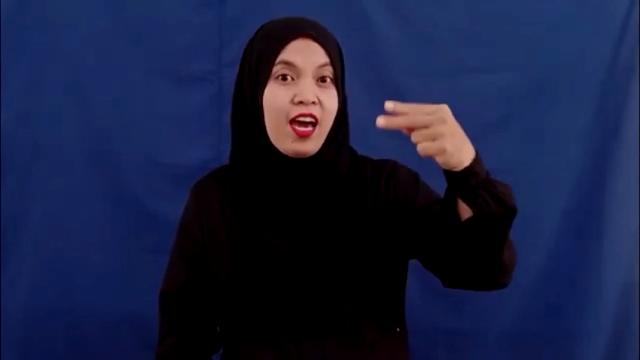H: (373, 98, 471, 166)
